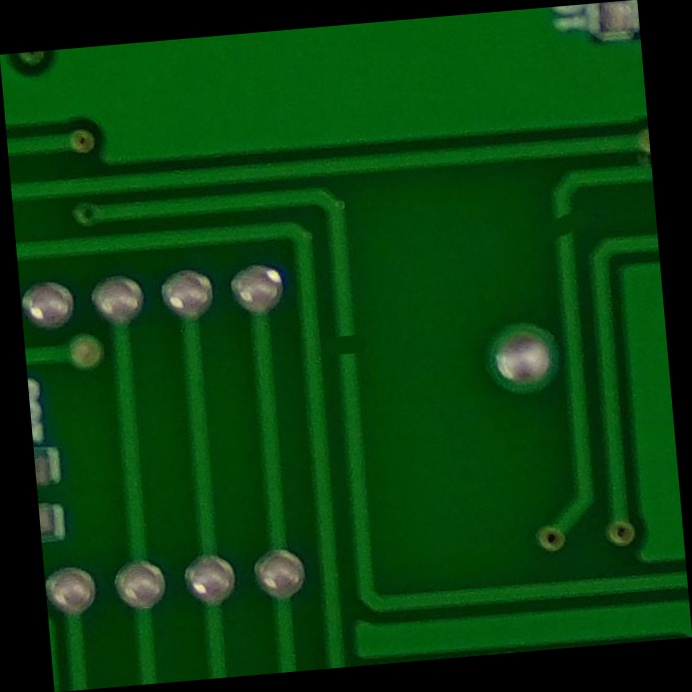open_circuit: (325, 323, 368, 369)
